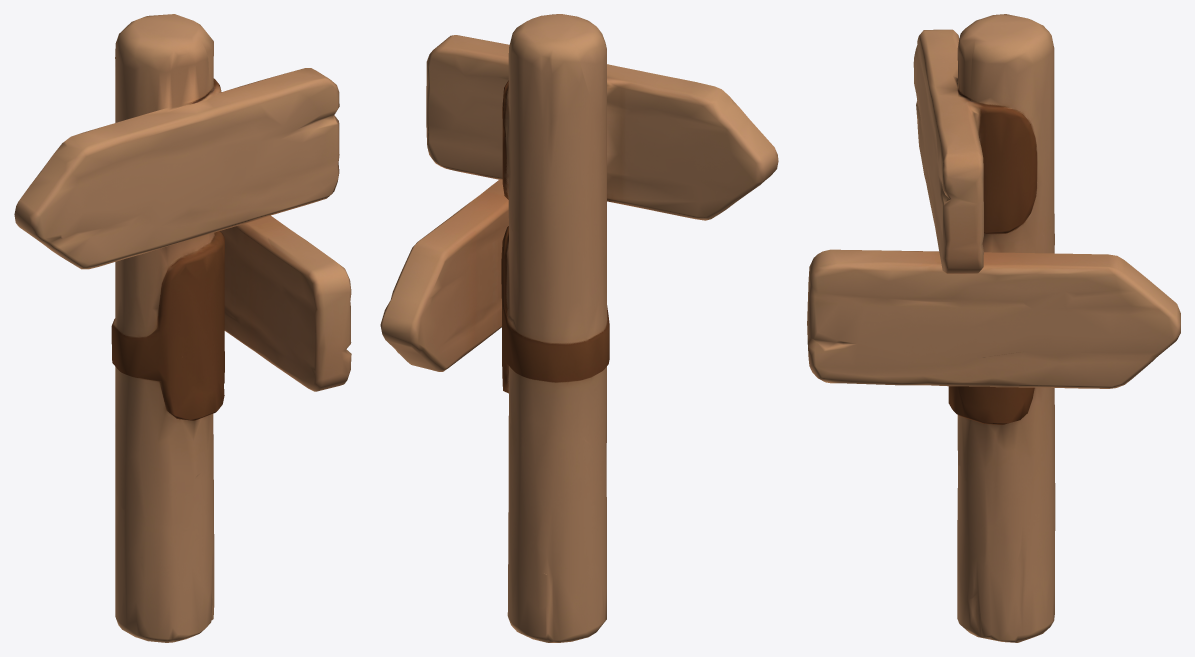
The model's file is signpost.glb.
3 views of the same model, side by side, from view 1: azimuth 30°, elevation 25°; view 2: azimuth 150°, elevation 25°; view 3: azimuth 270°, elevation 25° (orthographic).
Visible parts, largest first — view 1: tripo_node_1ed5781f-a5ef-48ac-8d23-3311ff1827c7; view 2: tripo_node_1ed5781f-a5ef-48ac-8d23-3311ff1827c7; view 3: tripo_node_1ed5781f-a5ef-48ac-8d23-3311ff1827c7.
Part boxes in pixels (left/top/right/bottom): tripo_node_1ed5781f-a5ef-48ac-8d23-3311ff1827c7: left=14, top=14, right=351, bottom=642; tripo_node_1ed5781f-a5ef-48ac-8d23-3311ff1827c7: left=380, top=14, right=778, bottom=642; tripo_node_1ed5781f-a5ef-48ac-8d23-3311ff1827c7: left=807, top=14, right=1180, bottom=642.
Bounding box in the file's own units: 0.5686 × 1 × 0.5657.
1 material, 1 textured.
